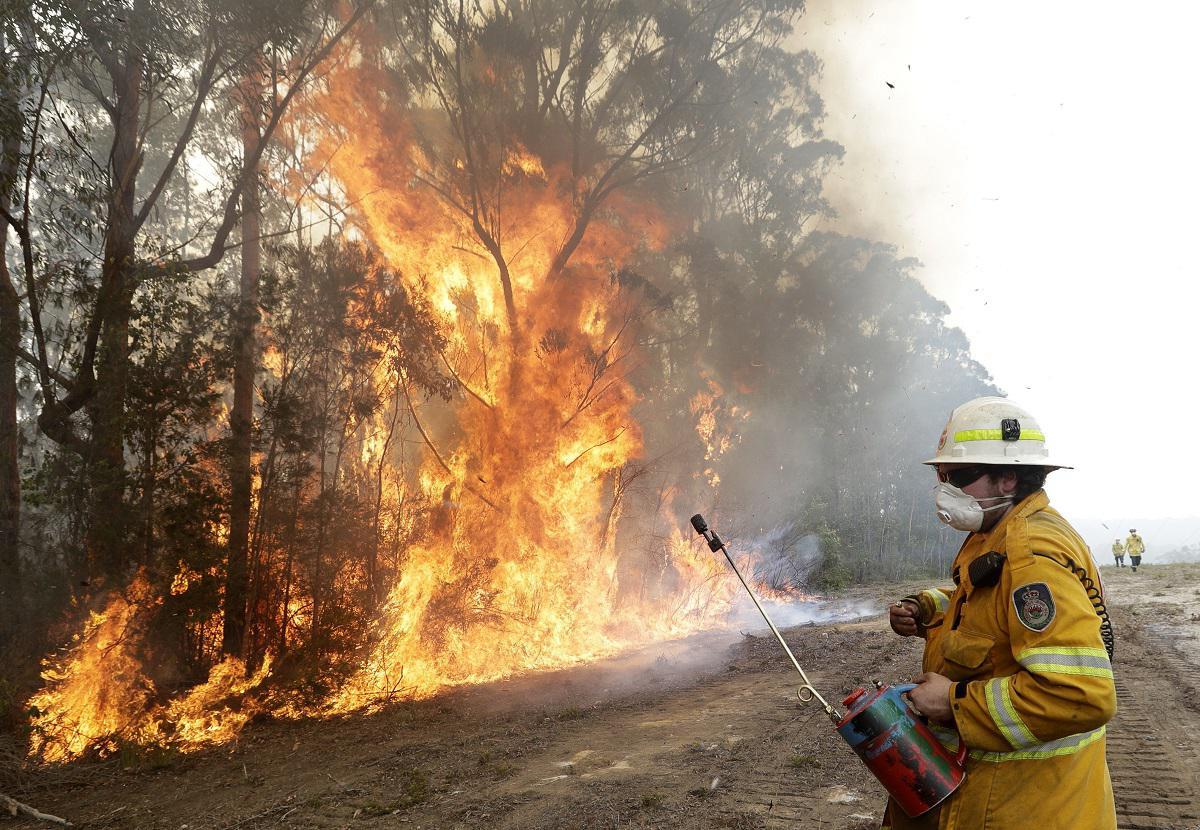Fire: (27, 8, 765, 770)
